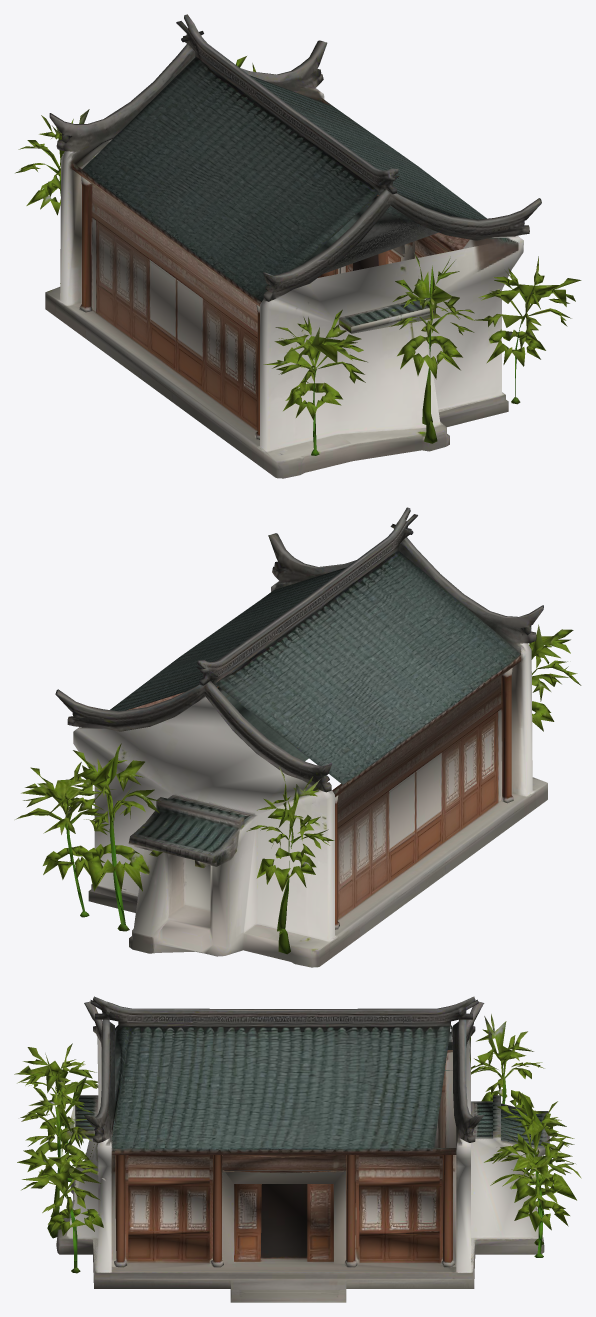
Rendered from xiaoxiang.glb.
3 views of the same model, one above another, from view 1: azimuth 30°, elevation 25°; view 2: azimuth 150°, elevation 25°; view 3: azimuth 270°, elevation 25° (orthographic). The views are drawn at different scales.
Visible parts, largest first — view 1: tripo_node_14ed8556-2eae-4d0c-97eb-cd594552e3a8; view 2: tripo_node_14ed8556-2eae-4d0c-97eb-cd594552e3a8; view 3: tripo_node_14ed8556-2eae-4d0c-97eb-cd594552e3a8.
Boxes of the visible parts, x1,y1,x2,y2 form: tripo_node_14ed8556-2eae-4d0c-97eb-cd594552e3a8: (15,14,581,478); tripo_node_14ed8556-2eae-4d0c-97eb-cd594552e3a8: (15,507,581,967); tripo_node_14ed8556-2eae-4d0c-97eb-cd594552e3a8: (14,996,581,1302).
Bounding box in the file's own units: 0.5645 × 0.4707 × 0.998.
Materials: 1 (1 with a texture image).
